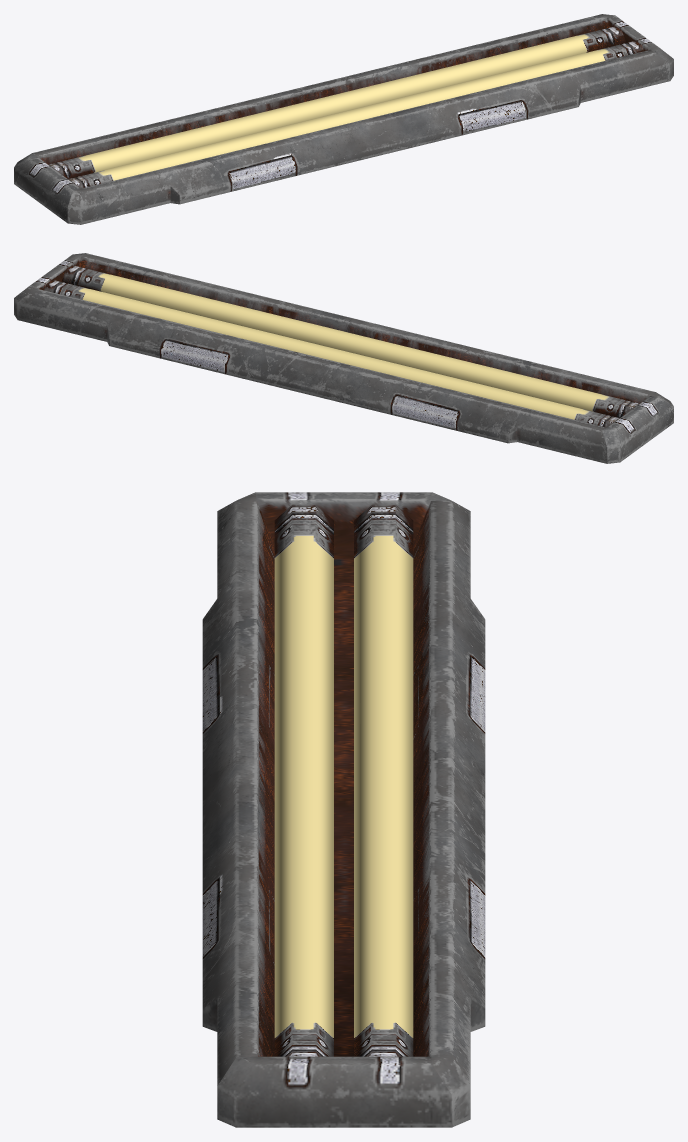
The model's file is Light_Long.fbx.
3 views of the same model, one above another, from view 1: azimuth 30°, elevation 25°; view 2: azimuth 150°, elevation 25°; view 3: azimuth 270°, elevation 25° (orthographic). The views are drawn at different scales.
Visible parts, largest first — view 1: Light_Long; view 2: Light_Long; view 3: Light_Long.
Part boxes in pixels (x1=…): Light_Long: x1=14, y1=14, x2=673, y2=224; Light_Long: x1=14, y1=253, x2=673, y2=463; Light_Long: x1=202, y1=492, x2=485, y2=1127.
Bounding box in the file's own units: 0.8382 × 0.0351 × 0.1693.
